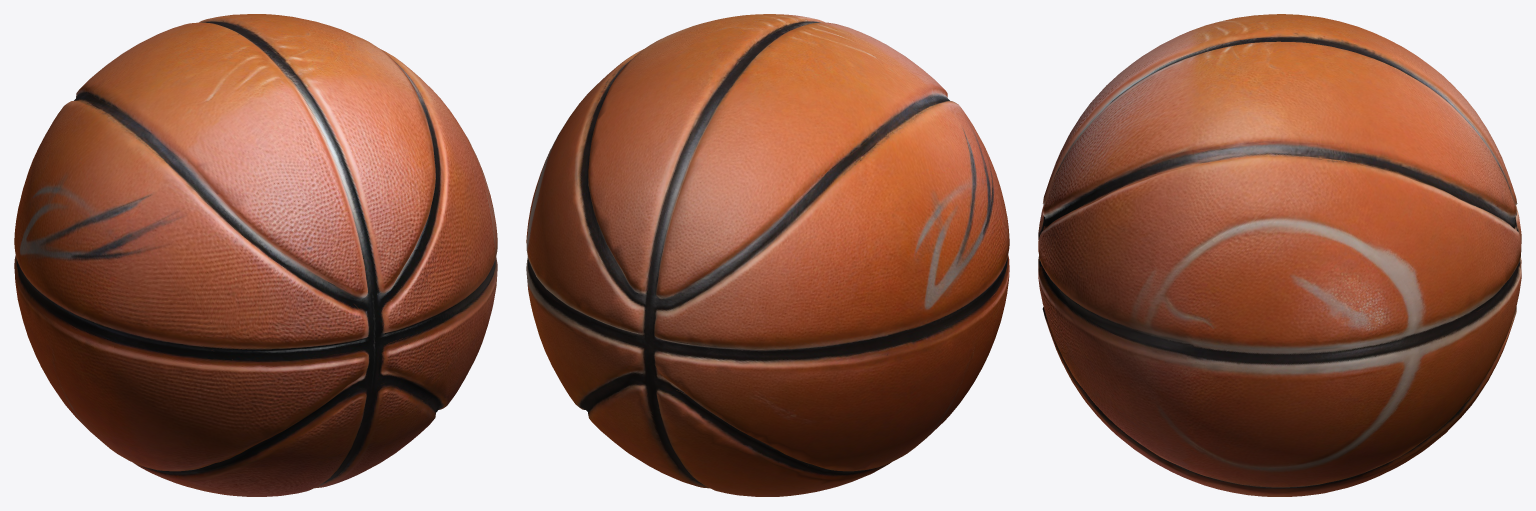
The model's file is Meshy_AI_Basketball_Sphere_0301025647_texture.glb.
3 views of the same model, side by side, from view 1: azimuth 30°, elevation 25°; view 2: azimuth 150°, elevation 25°; view 3: azimuth 270°, elevation 25° (orthographic).
Parts seen in each view (by area): view 1: Mesh_0.002; view 2: Mesh_0.002; view 3: Mesh_0.002.
Part boxes in pixels (x1=…): Mesh_0.002: x1=14, y1=14, x2=497, y2=496; Mesh_0.002: x1=526, y1=14, x2=1009, y2=496; Mesh_0.002: x1=1038, y1=14, x2=1521, y2=496.
Bounding box in the file's own units: 1 × 1 × 1.
1 material, 1 textured.
